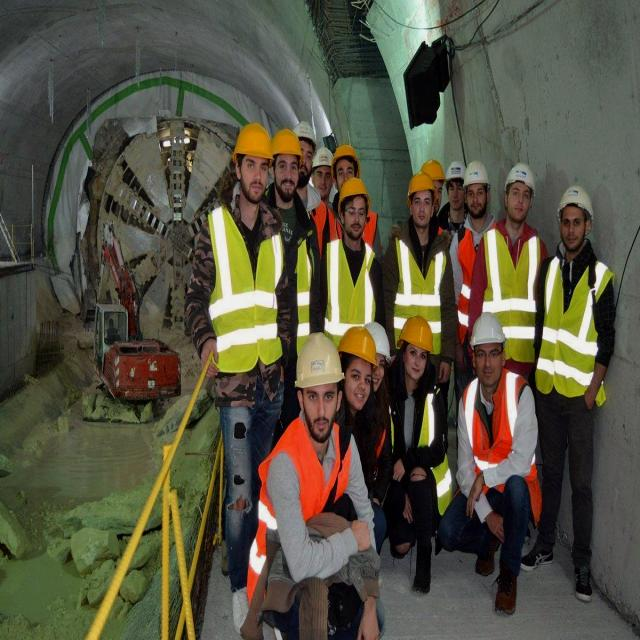face_nomask: (301, 384, 333, 434), (342, 358, 372, 410), (474, 341, 503, 389), (240, 160, 270, 206), (504, 179, 534, 221), (559, 206, 586, 252), (406, 192, 431, 235), (399, 342, 423, 385), (342, 200, 364, 243), (275, 155, 298, 195), (466, 182, 490, 220), (311, 165, 334, 193), (446, 180, 465, 211), (334, 164, 357, 186)
glasses: (473, 343, 502, 365)
hand_noglove: (358, 593, 389, 640), (352, 512, 379, 562), (464, 469, 484, 523), (492, 512, 510, 552), (392, 457, 406, 491)
head_helmet: (295, 334, 344, 387), (339, 326, 380, 366), (556, 184, 595, 220), (400, 315, 435, 351), (234, 124, 272, 157), (269, 125, 303, 156), (472, 313, 506, 343), (336, 179, 371, 204), (506, 163, 536, 191), (367, 323, 393, 355), (406, 174, 436, 197), (463, 160, 490, 184), (333, 144, 358, 166), (420, 160, 443, 180), (293, 122, 315, 141), (312, 147, 334, 166), (444, 160, 466, 178)
person: (252, 333, 381, 637), (216, 129, 276, 588), (542, 180, 606, 590), (456, 326, 533, 586), (391, 318, 445, 570), (486, 163, 537, 383), (392, 170, 450, 340), (323, 180, 388, 322), (341, 318, 394, 478), (275, 127, 303, 260), (304, 132, 336, 227)
shoes: (490, 557, 522, 623), (568, 554, 600, 607), (407, 546, 437, 602), (519, 534, 557, 576)
vest: (251, 440, 348, 606), (211, 205, 286, 366), (542, 260, 606, 394), (463, 380, 524, 491), (388, 386, 448, 496), (322, 248, 376, 334), (482, 230, 536, 314), (397, 243, 442, 317), (292, 237, 330, 317)
